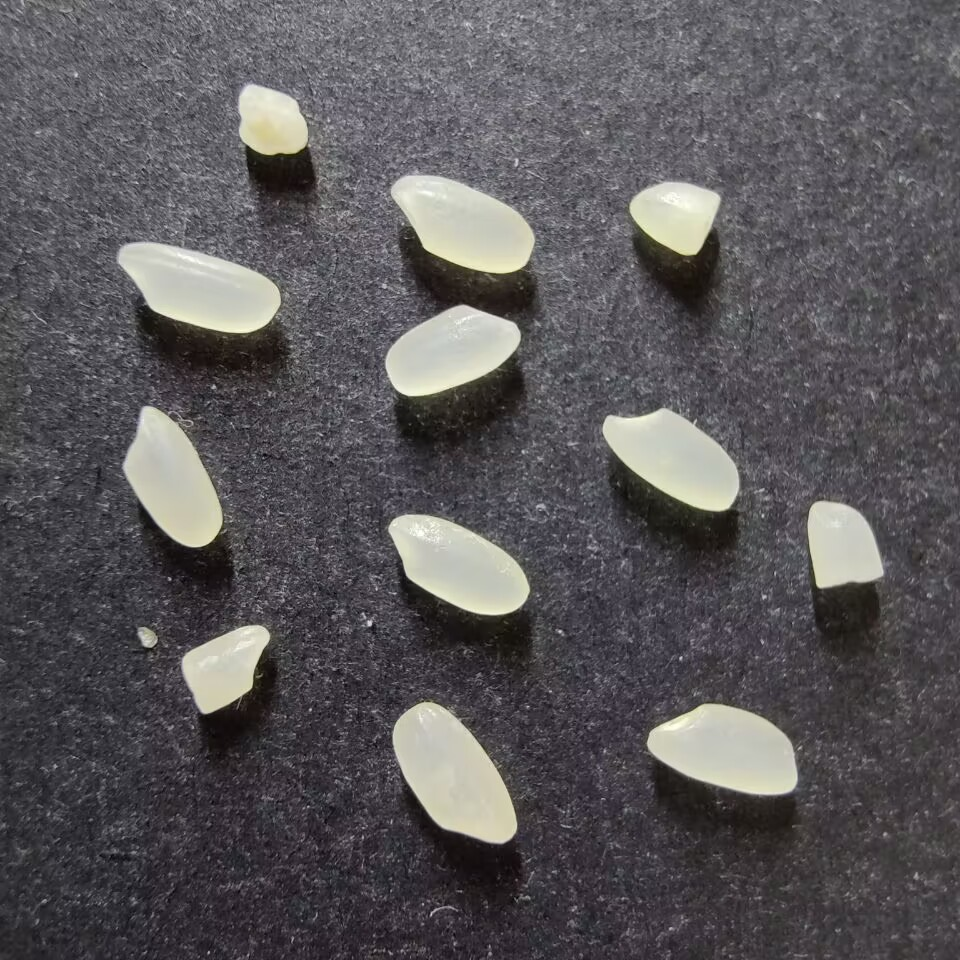broken: (180, 624, 271, 715), (628, 181, 719, 256), (806, 501, 883, 587), (236, 83, 309, 155)
rice: (391, 701, 518, 845), (116, 241, 280, 334), (121, 405, 222, 549), (389, 174, 534, 274), (601, 407, 739, 512), (387, 513, 529, 615), (645, 702, 798, 795), (384, 303, 521, 396)
